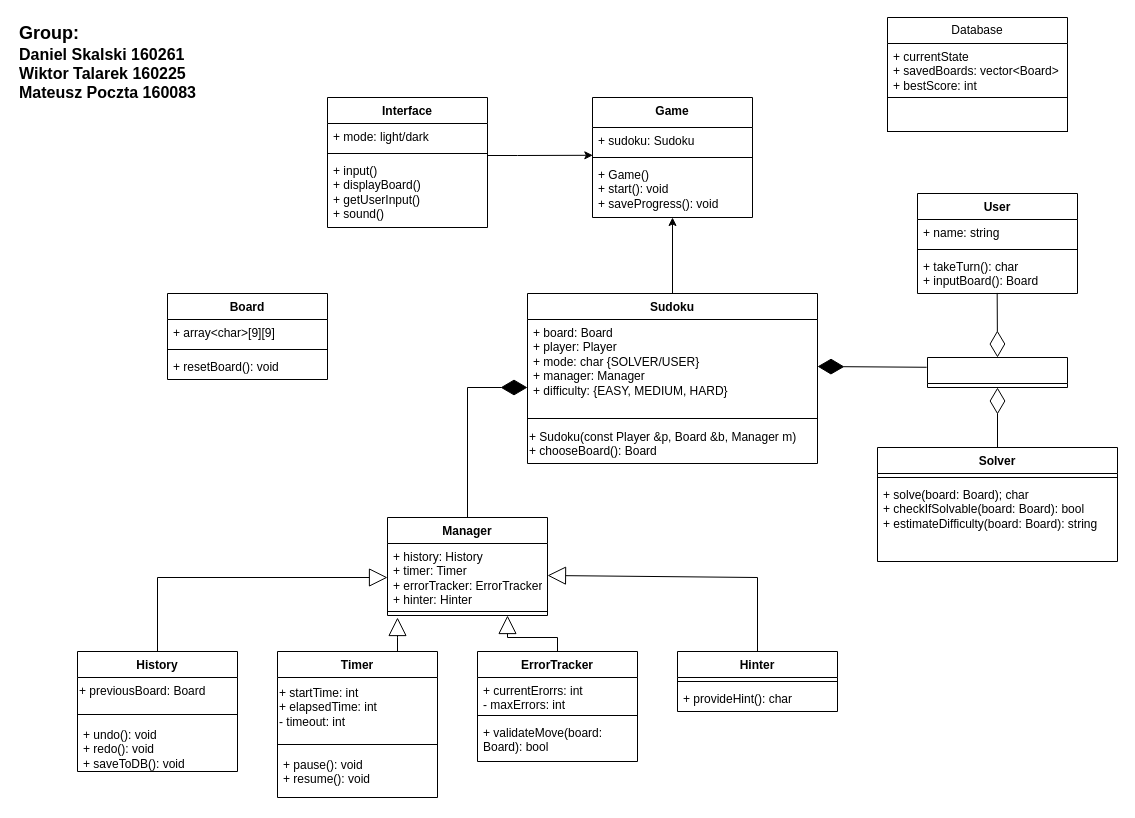
This 1135x818 diagram has some shape labels left out. The shapes that lost their labels are listed below. From the top down, each one's centre as x and y in pixels, then its label:
At (x=977, y=114): "+ addBoard(Board b): void".
At (x=997, y=372): "Player".
